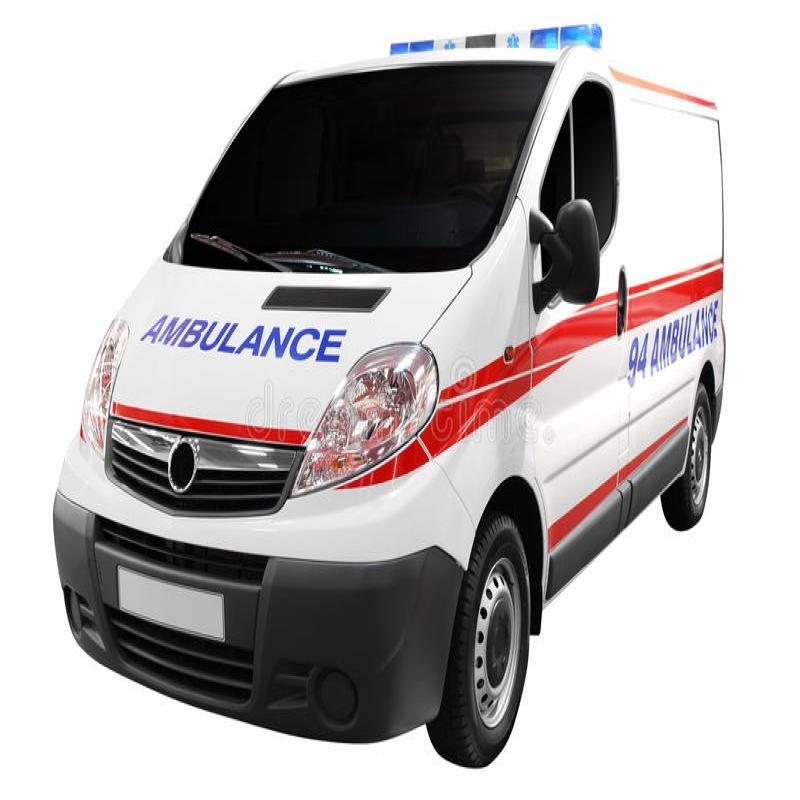AmbulanceSiren: (385, 15, 603, 67)
ambulance: (46, 23, 762, 800)
